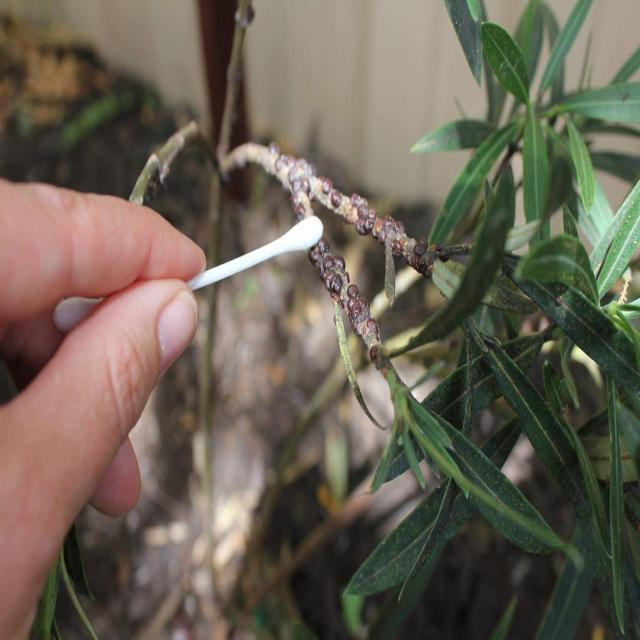BlackScale: (259, 143, 406, 246), (308, 238, 382, 358), (392, 234, 452, 278)
